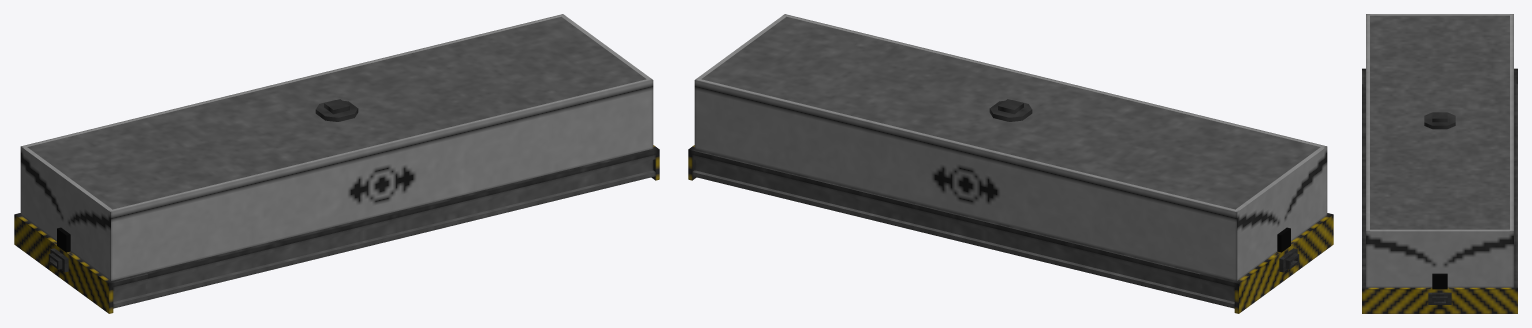
The model's file is kitsune_elysia_mk2_javelin_tank.obj.
The picture shows the model from 3 angles, left to right: view 1: azimuth 30°, elevation 25°; view 2: azimuth 150°, elevation 25°; view 3: azimuth 270°, elevation 25°; orthographic projection. The views are drawn at different scales.
Parts seen in each view (by area): view 1: FRAME_0_body, FRAME_3, FRAME_1, FRAME_2, FRAME_end1, FRAME_end2, Cube; view 2: FRAME_0_body, FRAME_3, FRAME_1, FRAME_2, FRAME_end1, FRAME_end2, Cube; view 3: FRAME_0_body, FRAME_end2, FRAME_3, FRAME_2, FRAME_1, Cube, COUPLER_ENGAGED_REAR_2_TOGGLE_LABEL_Uncouple, DOOR_2_CONNECTING_NOTOUCH, FRAME_end1.
Boxes of the visible parts, bbox=[...] form: FRAME_0_body: bbox=[20, 14, 653, 280]; FRAME_3: bbox=[460, 157, 620, 223]; FRAME_1: bbox=[145, 234, 306, 299]; FRAME_2: bbox=[304, 196, 462, 261]; FRAME_end1: bbox=[14, 213, 147, 313]; FRAME_end2: bbox=[618, 145, 659, 184]; Cube: bbox=[315, 99, 358, 121]; FRAME_0_body: bbox=[694, 14, 1327, 280]; FRAME_3: bbox=[727, 157, 887, 223]; FRAME_1: bbox=[1041, 234, 1202, 299]; FRAME_2: bbox=[885, 196, 1043, 261]; FRAME_end1: bbox=[1200, 213, 1333, 313]; FRAME_end2: bbox=[688, 145, 729, 184]; Cube: bbox=[989, 99, 1032, 121]; FRAME_0_body: bbox=[1366, 14, 1513, 287]; FRAME_end2: bbox=[1362, 273, 1517, 313]; FRAME_3: bbox=[1362, 210, 1517, 273]; FRAME_2: bbox=[1362, 147, 1517, 210]; FRAME_1: bbox=[1362, 84, 1517, 147]; Cube: bbox=[1424, 112, 1455, 129]; COUPLER_ENGAGED_REAR_2_TOGGLE_LABEL_Uncouple: bbox=[1428, 292, 1451, 304]; DOOR_2_CONNECTING_NOTOUCH: bbox=[1432, 273, 1447, 289]; FRAME_end1: bbox=[1362, 68, 1517, 84].
Bounding box in the file's own units: 8.62 × 1.69 × 2.5.
Materials: 4 (4 with a texture image).
